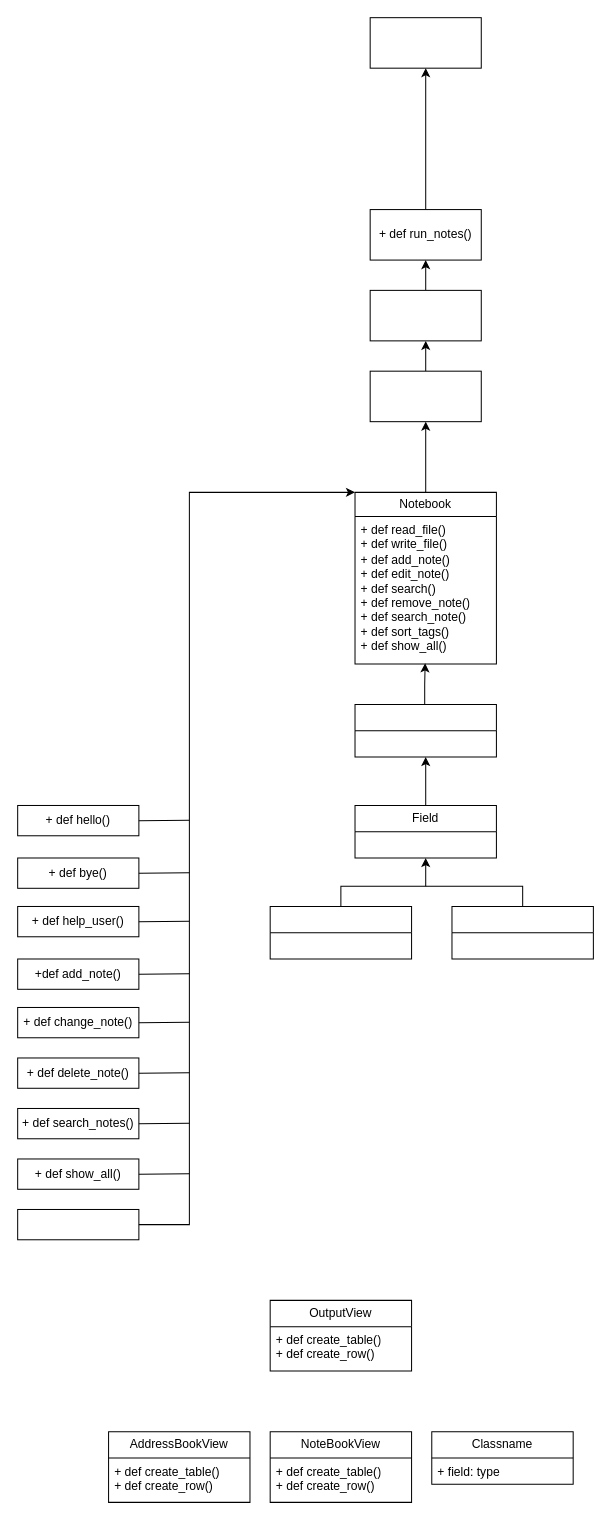
This 611x1523 diagram has some shape labels left out. The centre of each missing label's shape, as x and y in pixels:
"+ def parse_command()" belongs at point 425,396.
"+ def run_bot()" belongs at point 425,315.
"+ def sort_tags()" belongs at point 78,1224.
"def menu()" belongs at point 425,42.
"Note" belongs at point 522,932.
"Record" belongs at point 425,730.
"Tag" belongs at point 340,932.
